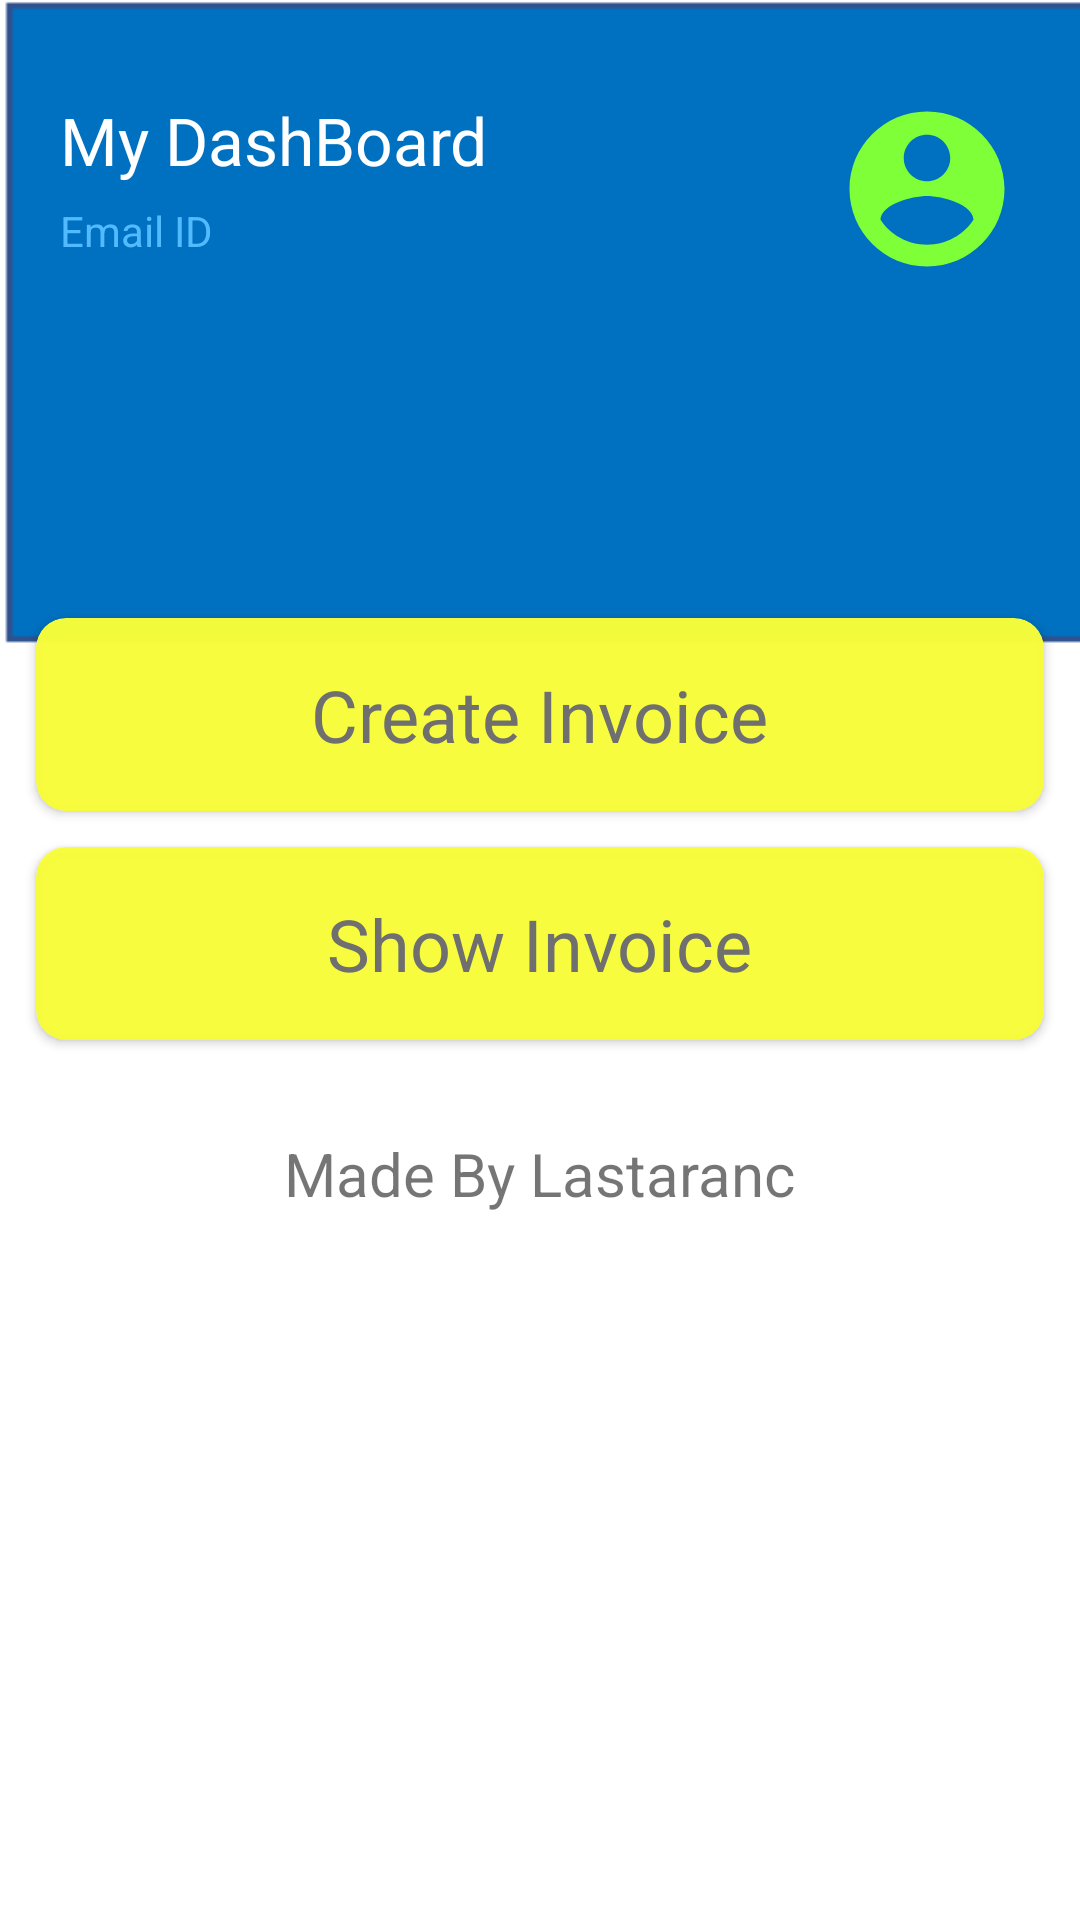

Named icons in this screenshot (1080×1920) and their bounding boxes, bbox=[x1, y1, x2, y2]:
account: bbox=[849, 111, 1005, 267]
